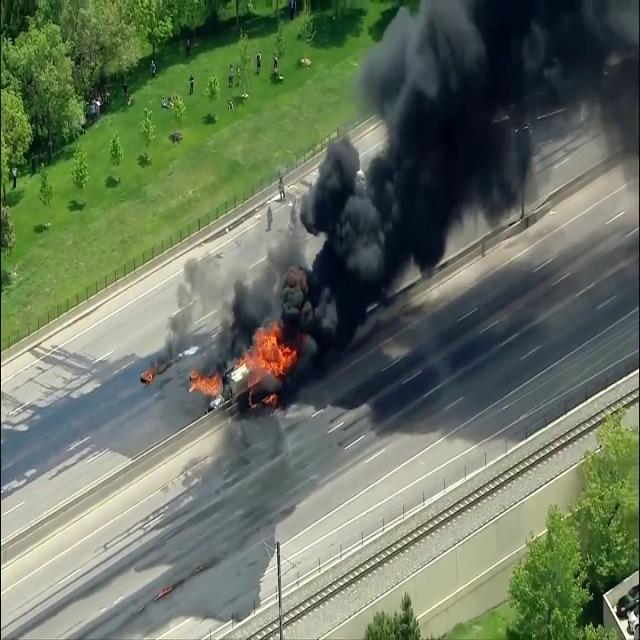Fire: (230, 314, 296, 398)
Smoke: (236, 0, 634, 389), (154, 240, 228, 374)
